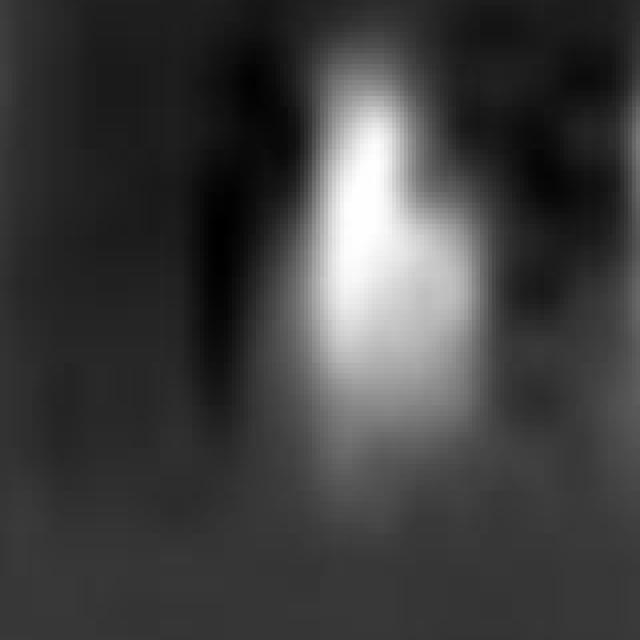person: (259, 25, 505, 554)
